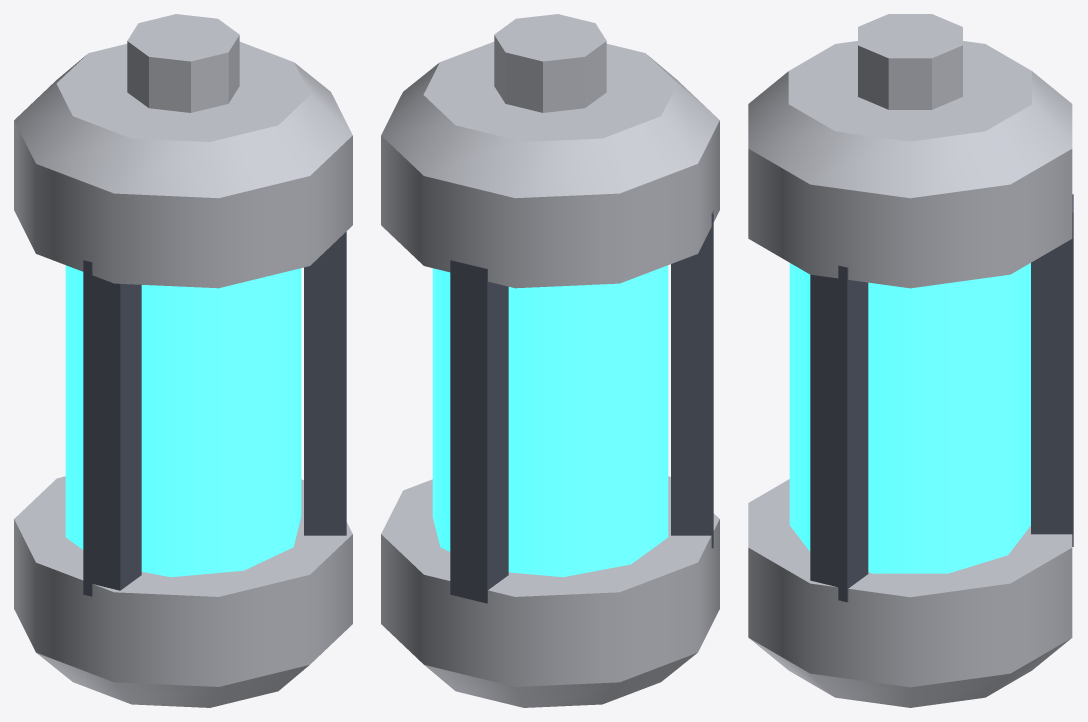
The model's file is plasma-cartridge.glb.
3 views of the same model, side by side, from view 1: azimuth 30°, elevation 25°; view 2: azimuth 150°, elevation 25°; view 3: azimuth 270°, elevation 25° (orthographic).
Visible parts, largest first — view 1: Cell caps, Cell core, Cell struts; view 2: Cell caps, Cell core, Cell struts; view 3: Cell caps, Cell core, Cell struts.
Part boxes in pixels (left/top/right/bottom): Cell caps: left=14, top=14, right=352, bottom=707; Cell core: left=65, top=265, right=301, bottom=577; Cell struts: left=83, top=231, right=346, bottom=596; Cell caps: left=381, top=14, right=719, bottom=707; Cell core: left=432, top=265, right=668, bottom=577; Cell struts: left=450, top=210, right=713, bottom=603; Cell caps: left=748, top=14, right=1072, bottom=707; Cell core: left=789, top=263, right=1030, bottom=573; Cell struts: left=810, top=194, right=1073, bottom=602.
Bounding box in the file's own units: 0.24 × 0.48 × 0.2291.
